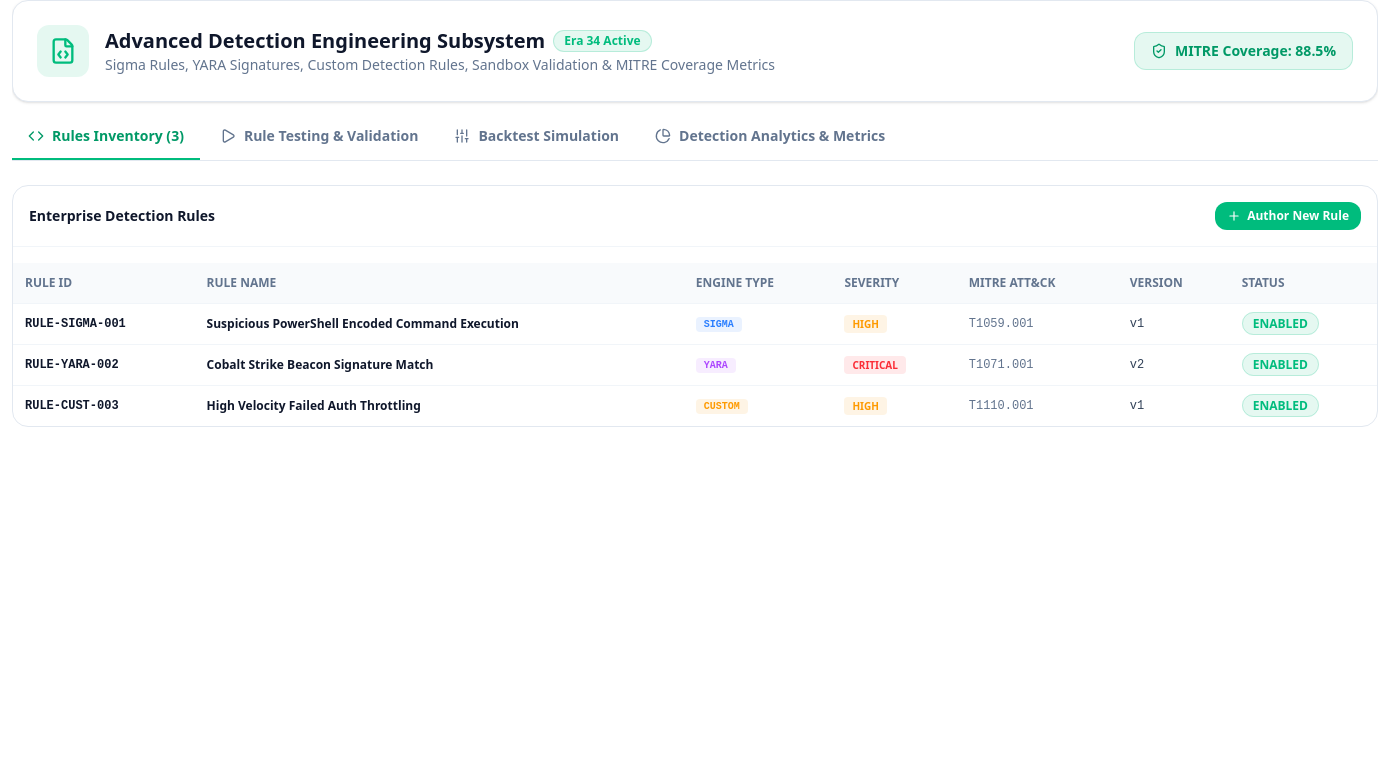
Test case: AdvancedDetectionEngineeringDashboard › switches tab to Rule Testing & Validation and executes test
Click the button "Rule Testing & Validation": (319, 143) x1=204 y1=126 x2=434 y2=160
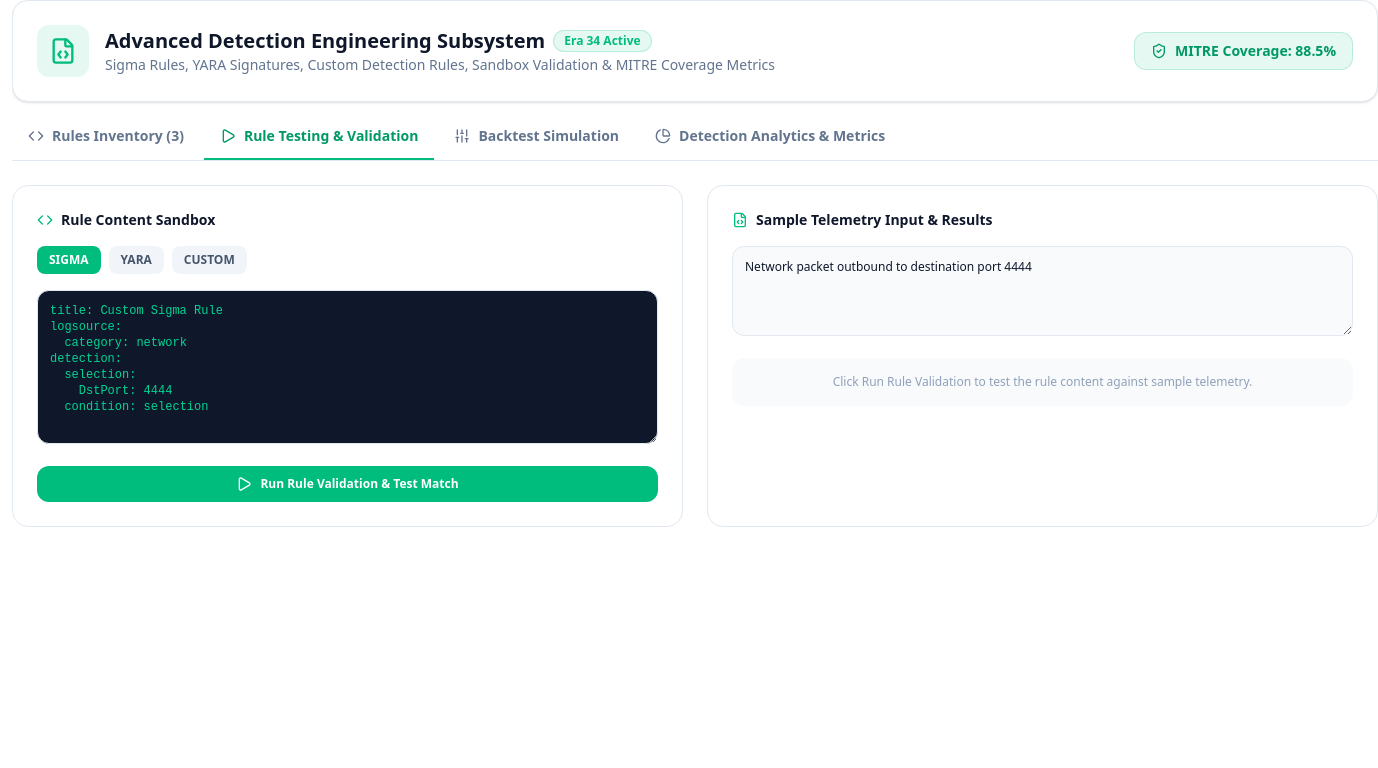
Click the button "Run Rule Validation & Test Match": (348, 484) x1=37 y1=466 x2=658 y2=502
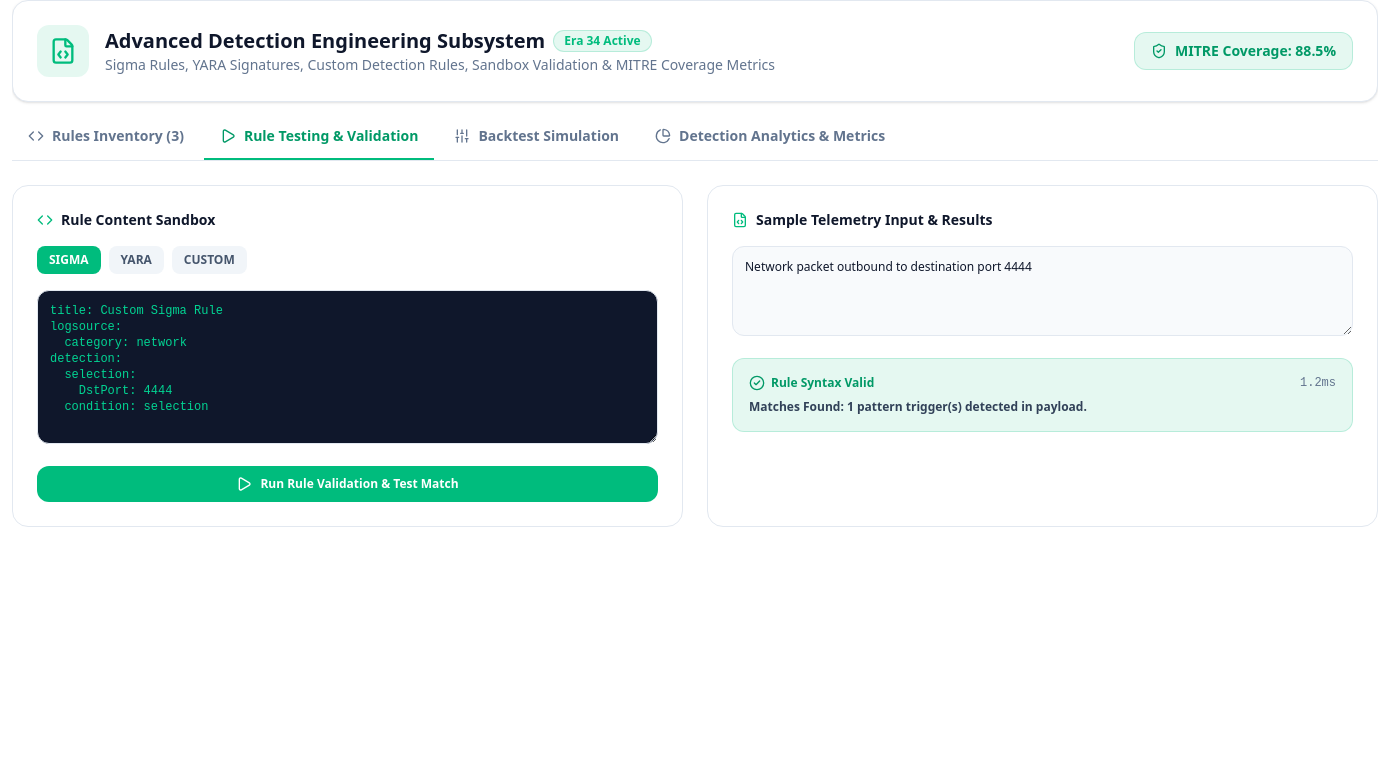
Result: the text "Rule Syntax Valid" is shown at x1=749 y1=375 x2=874 y2=391
Result: the text "Matches Found: 1 pattern trigger(s) detected in payload." is shown at x1=749 y1=398 x2=1087 y2=415
